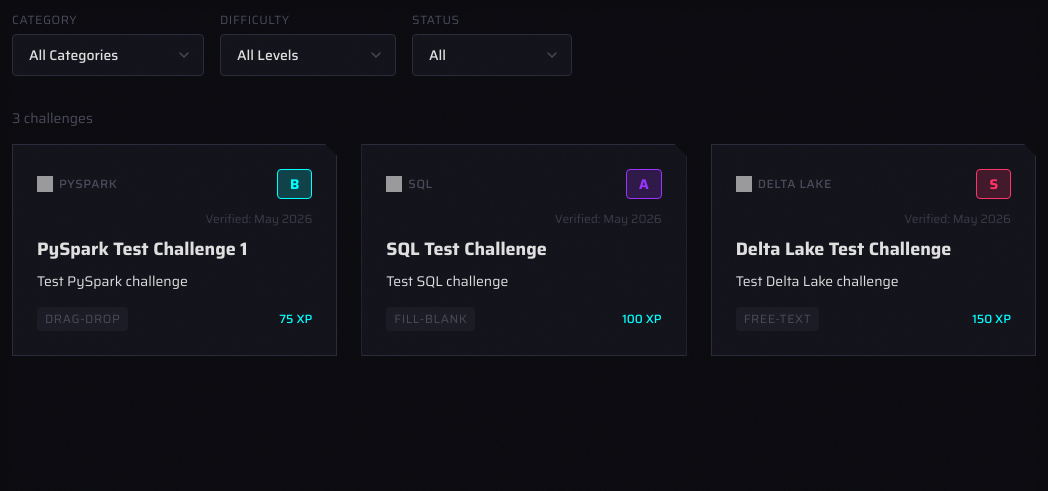
Test: ChallengeGridClient › empty state › clears filters when Clear Filters button clicked
Select "PySpark" in the dropdown labelled "Category" at (108, 55), box [12, 34, 204, 76]
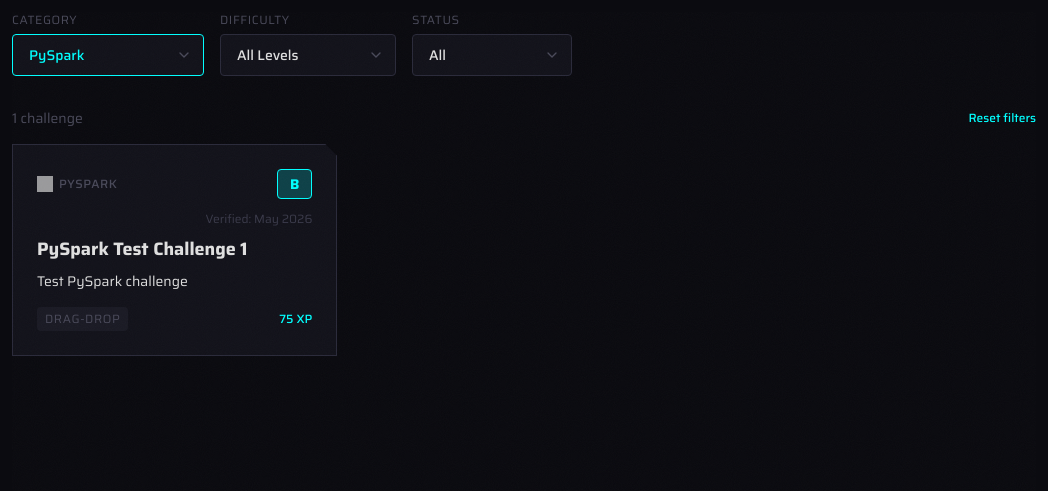
Select "S — Advanced" in the dropdown labelled "Difficulty" at (308, 55), box [220, 34, 396, 76]
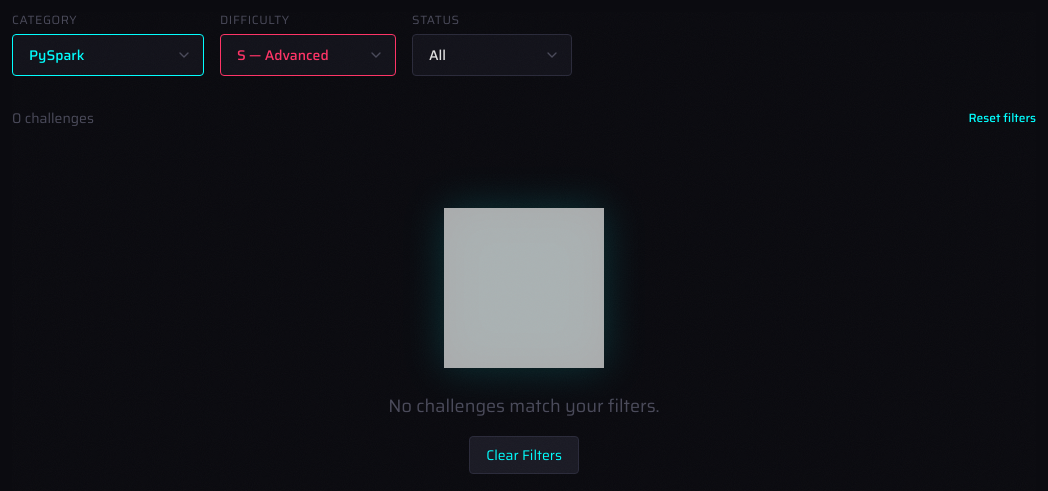
// Clear filters
Click the button "Clear Filters".
click(524, 455)  # box [469, 436, 579, 474]
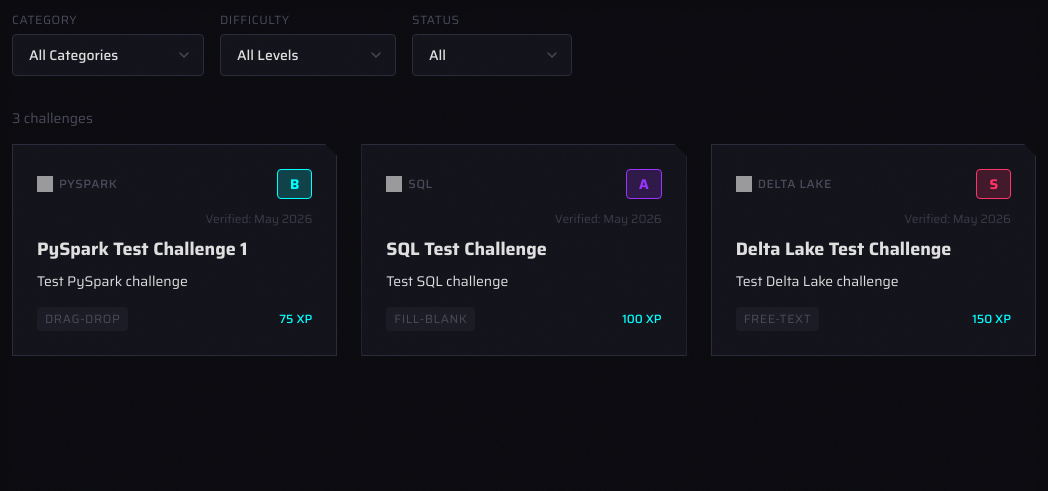
Expected: the heading "PySpark Test Challenge 1" is shown, [37, 235, 248, 263]
Expected: the heading "SQL Test Challenge" is shown, [386, 235, 547, 263]
Expected: the heading "Delta Lake Test Challenge" is shown, [736, 235, 951, 263]
